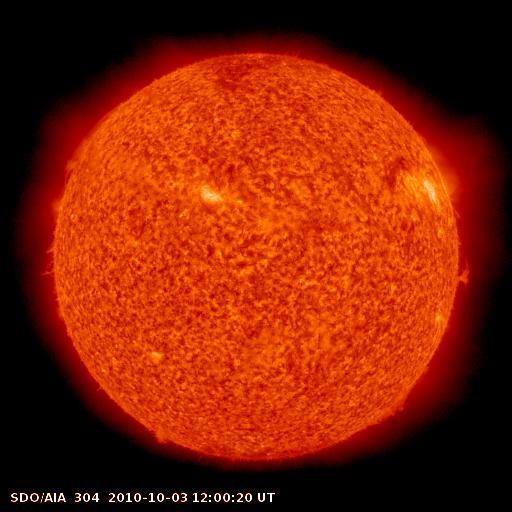prominence: (55, 107, 116, 183), (365, 393, 420, 433), (435, 254, 481, 298), (40, 217, 60, 291)
